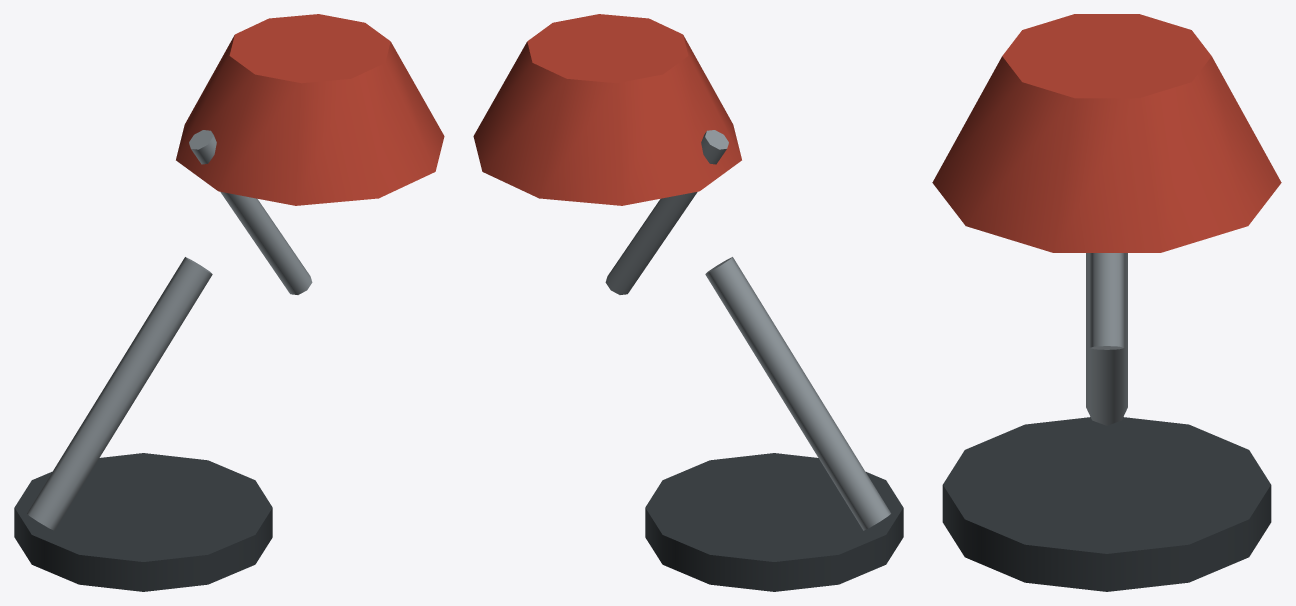
File: desk_lamp.glb
3 renders of one model, left to right at view 1: azimuth 30°, elevation 25°; view 2: azimuth 150°, elevation 25°; view 3: azimuth 270°, elevation 25°, orthographic. The views are drawn at different scales.
Visible parts, largest first — view 1: desk_lamp; view 2: desk_lamp; view 3: desk_lamp.
Boxes of the visible parts, box(x1,y1,x2,y2) form: desk_lamp: box(14, 14, 444, 591); desk_lamp: box(473, 14, 903, 591); desk_lamp: box(932, 14, 1281, 591).
Size of the model in its own units: 0.1656 by 0.18 by 0.1.
